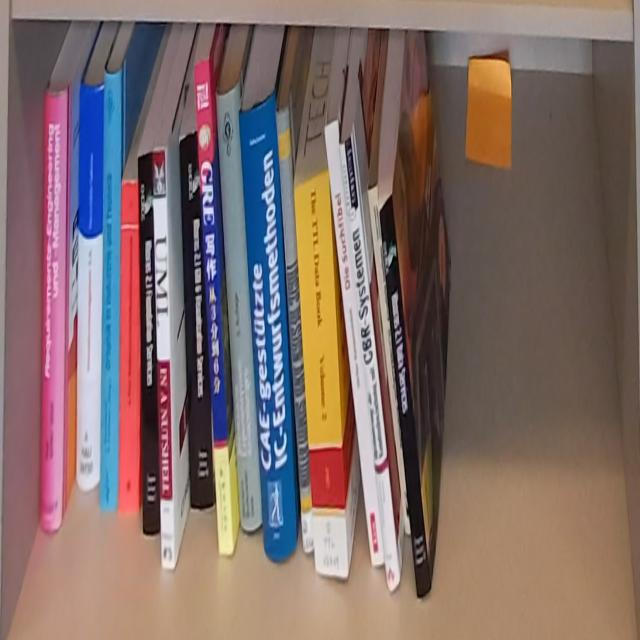Book Spine: (338, 134, 401, 592), (242, 77, 298, 561), (323, 117, 382, 570), (292, 168, 348, 579), (378, 193, 433, 598), (216, 79, 264, 537), (192, 59, 232, 554), (275, 105, 314, 555), (368, 185, 410, 539), (179, 135, 213, 511), (41, 92, 64, 538), (78, 82, 102, 494), (100, 67, 122, 516), (136, 147, 160, 536), (120, 177, 139, 518), (163, 223, 175, 571)
